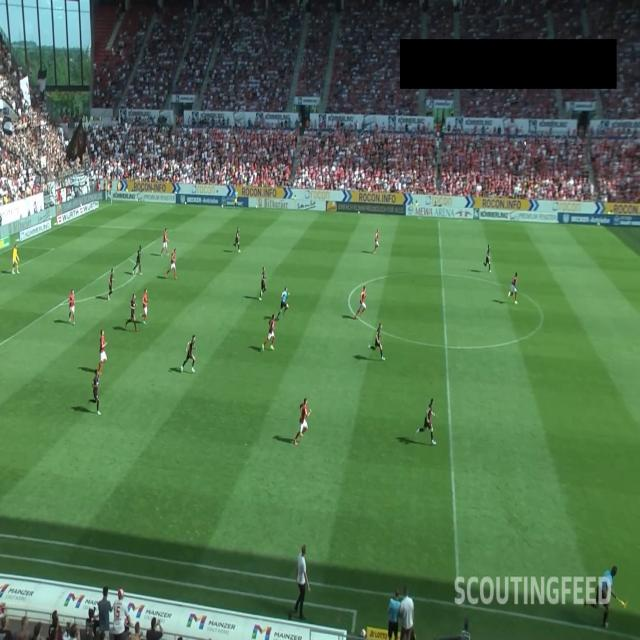ball: (523, 141, 526, 147)
